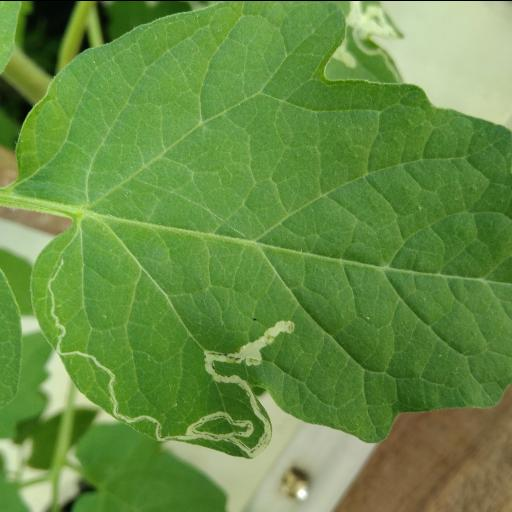Leaf Miner: (12, 1, 512, 459)
